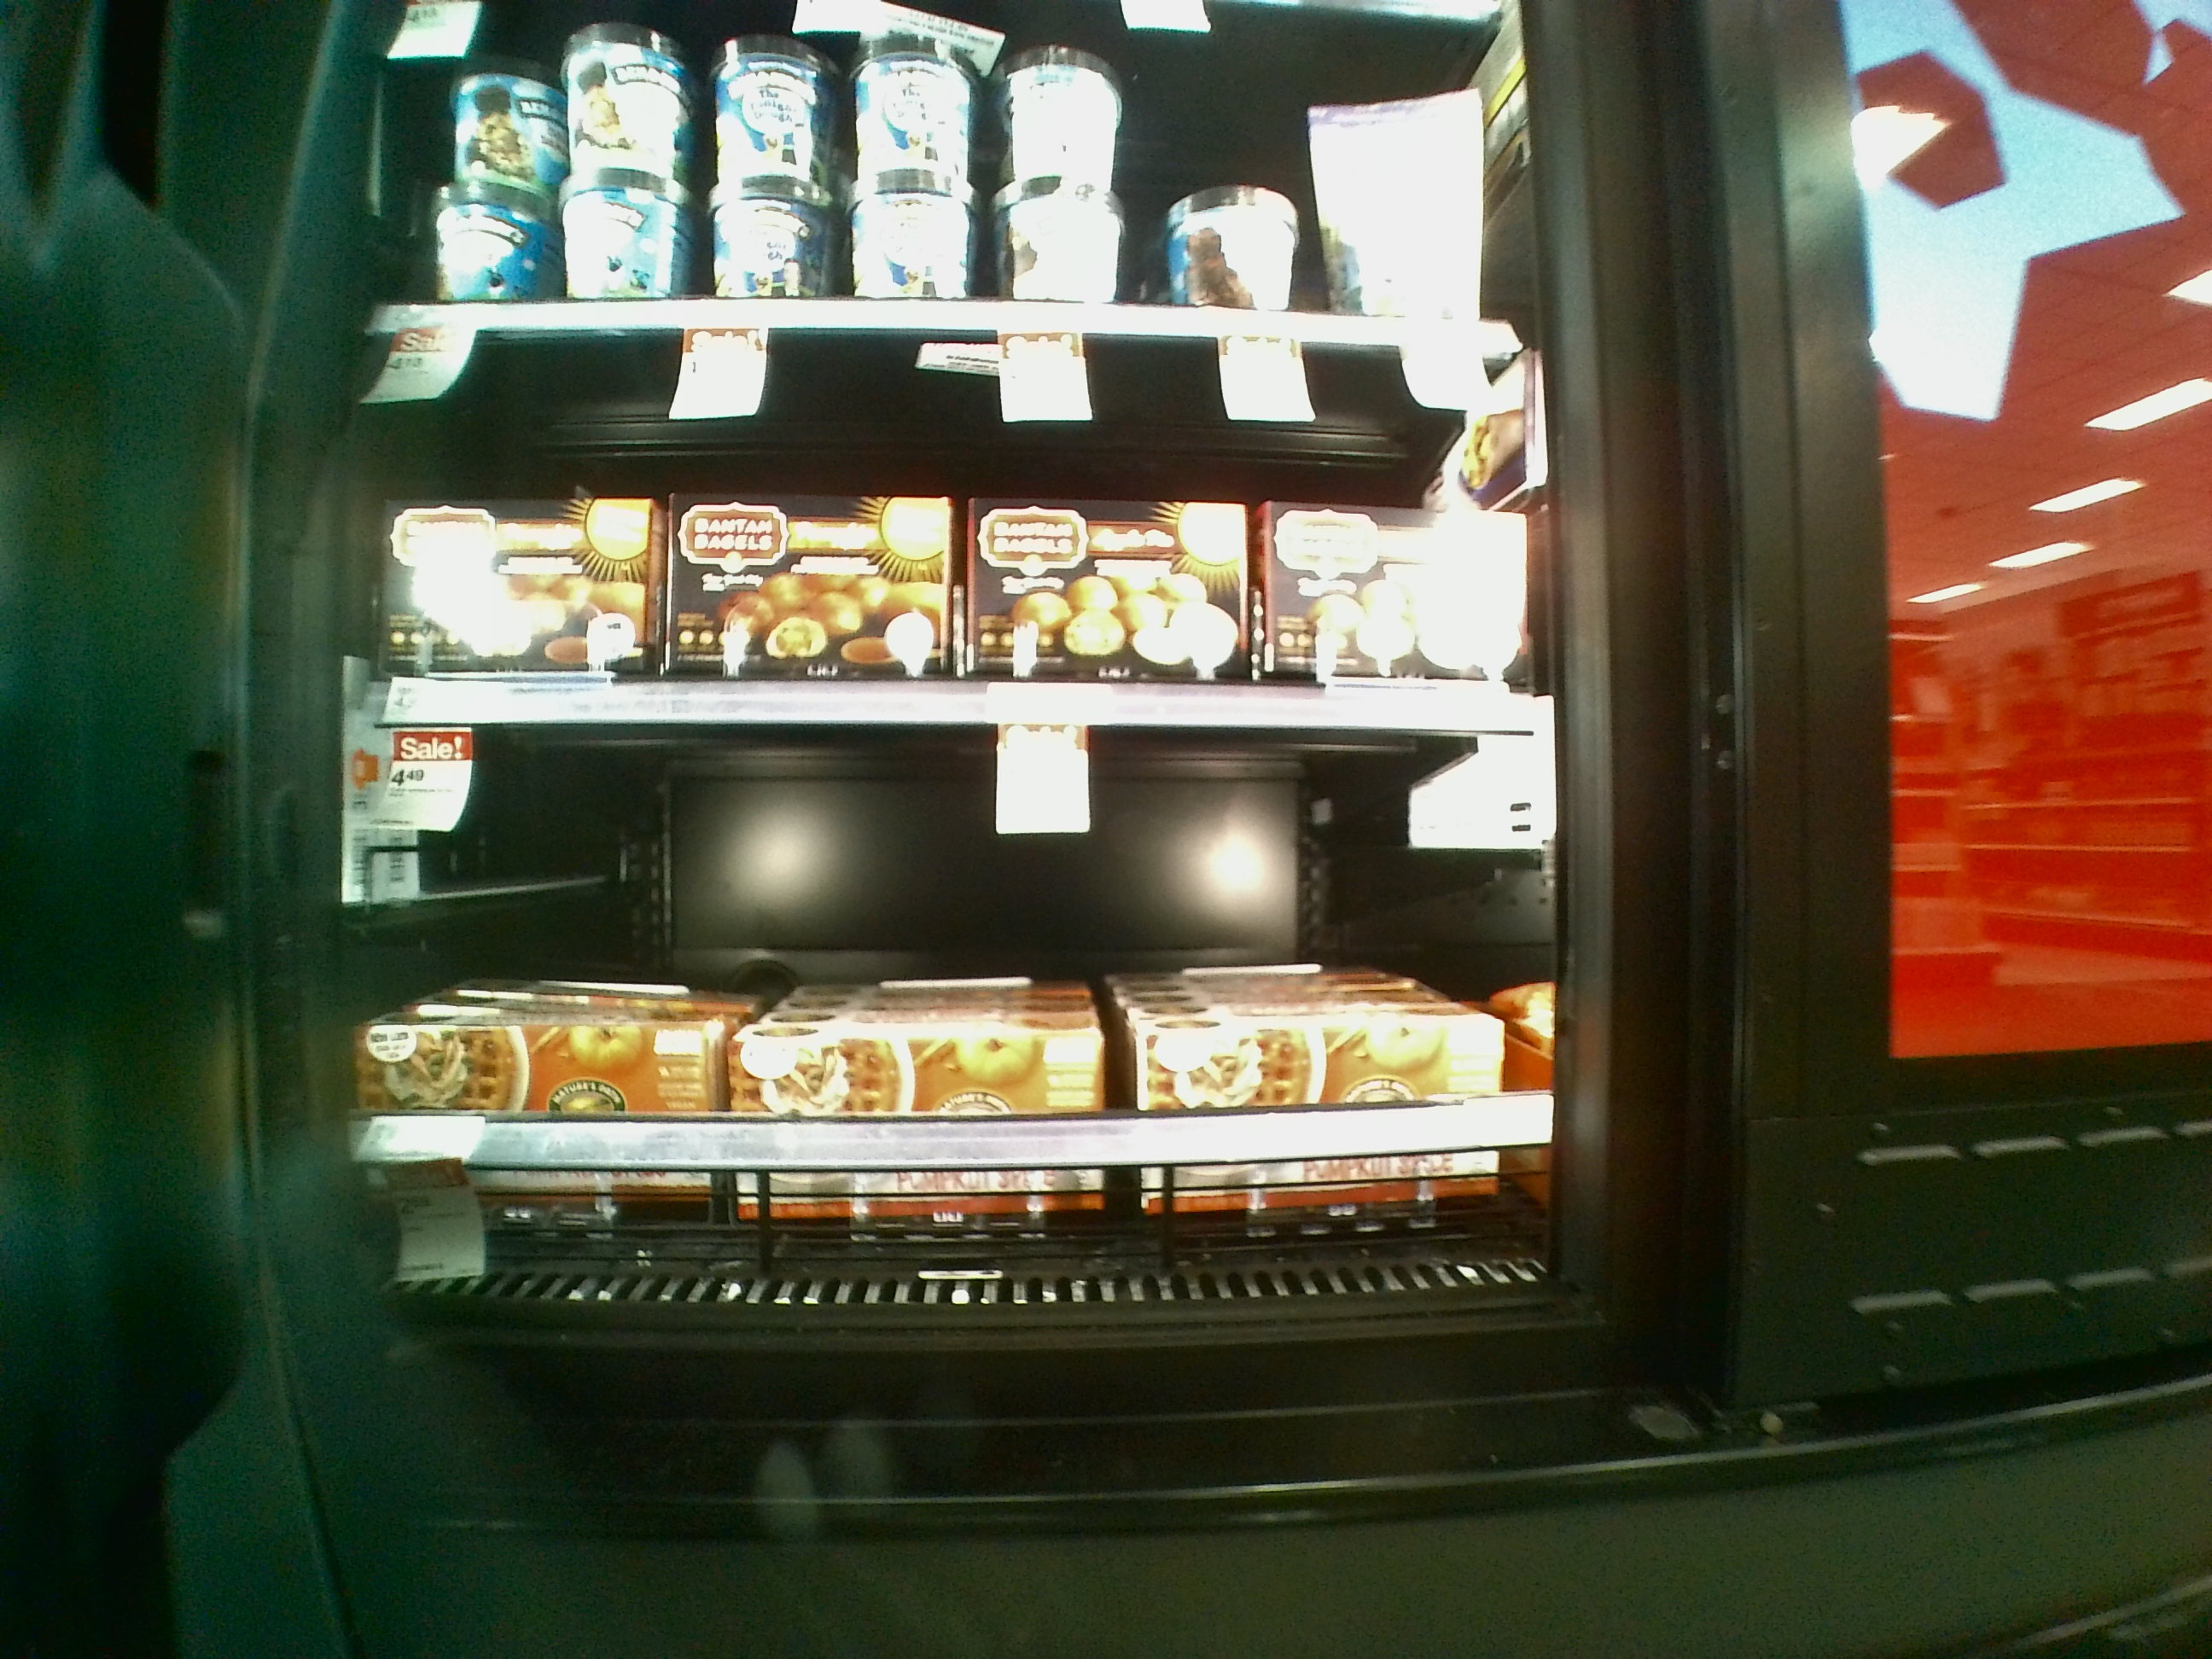shelf: (327, 716, 1592, 1340), (333, 331, 1536, 735)
